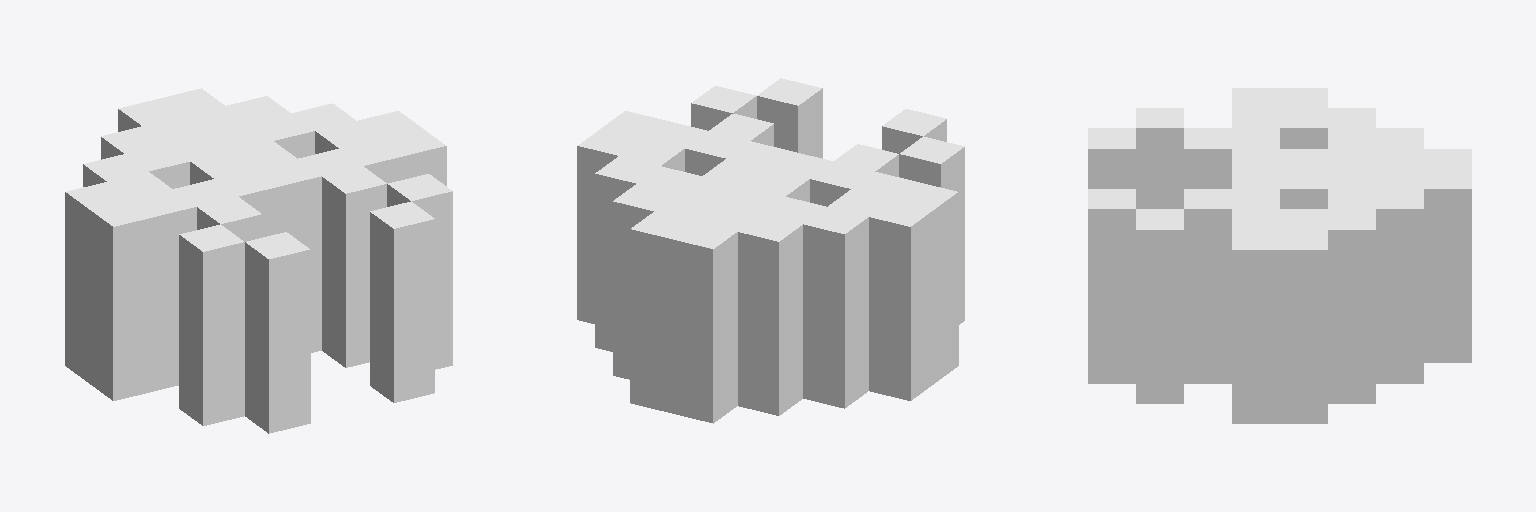
The model's file is verde1.obj.
3 renders of one model, left to right at view 1: azimuth 30°, elevation 25°; view 2: azimuth 150°, elevation 25°; view 3: azimuth 270°, elevation 25°, orthographic.
Parts seen in each view (by area): view 1: object 1; view 2: object 1; view 3: object 1.
Boxes of the visible parts, <box> form: object 1: <box>65,88,452,433</box>; object 1: <box>577,78,964,423</box>; object 1: <box>1088,88,1471,423</box>.
Size of the model in its own units: 0.8 by 0.4 by 0.8.